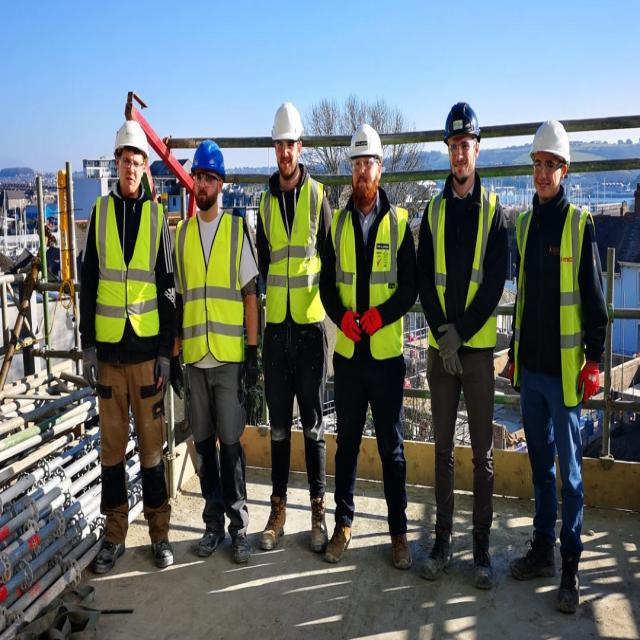Reflective-Jacket: (512, 199, 599, 404), (426, 178, 503, 352), (330, 198, 410, 360), (92, 190, 166, 346), (175, 209, 248, 367), (257, 173, 327, 328)
Safety-Helmet: (528, 114, 574, 170), (439, 98, 484, 144), (346, 119, 385, 164), (268, 99, 306, 145), (187, 138, 228, 179), (112, 117, 151, 158)
